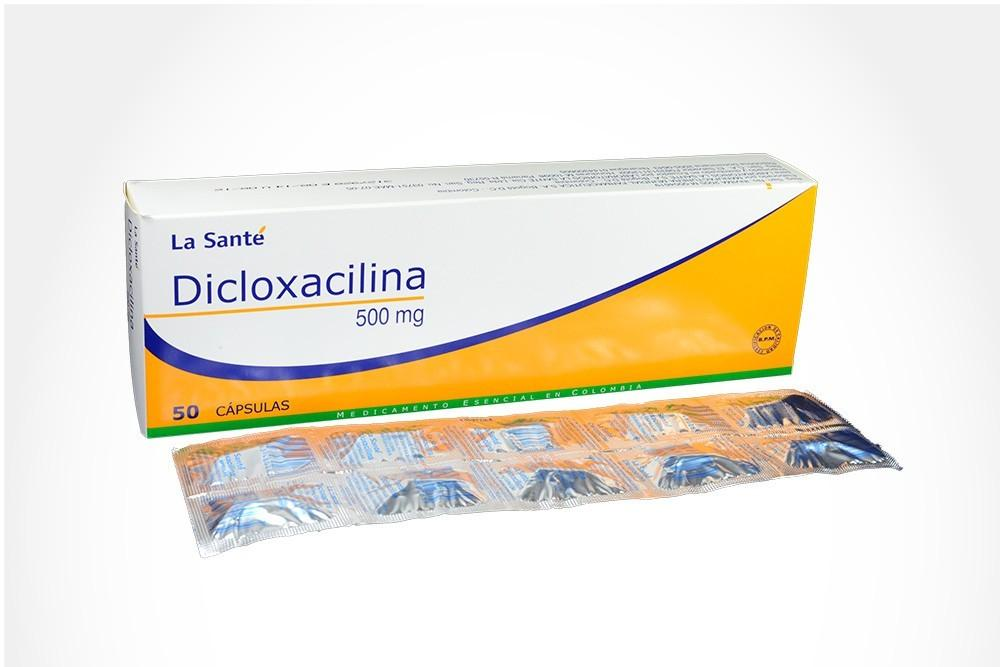LaSante: (150, 194, 803, 431)
